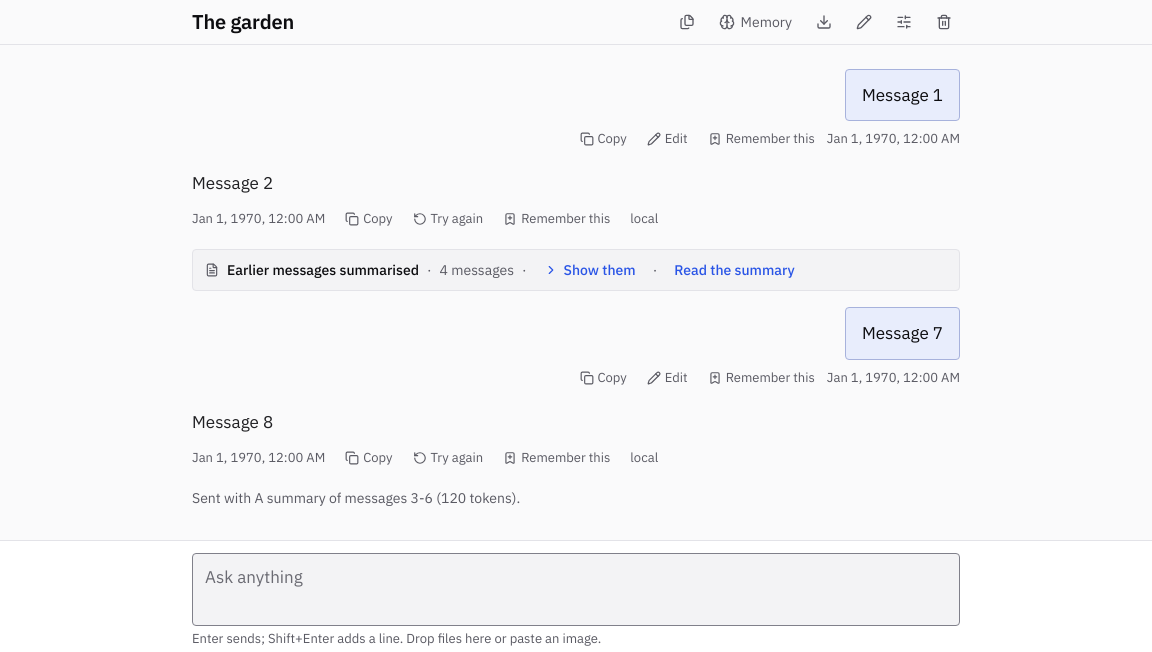
Test: reads the summary, with who wrote it from how much
This screenshot has width=1152, height=652.
Click the button "Read the summary": (734, 270) [665, 254, 804, 286]
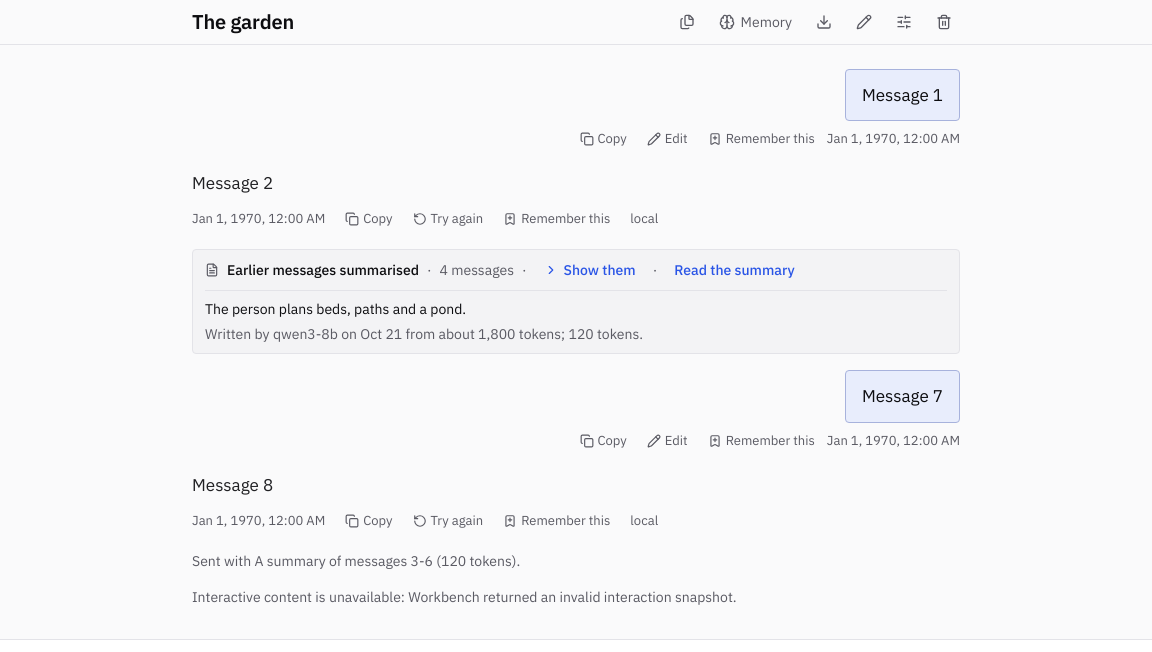
expect the text with test id "summary-text" reads "The person plans beds, paths and a pond.": met, box [205, 300, 466, 318]
